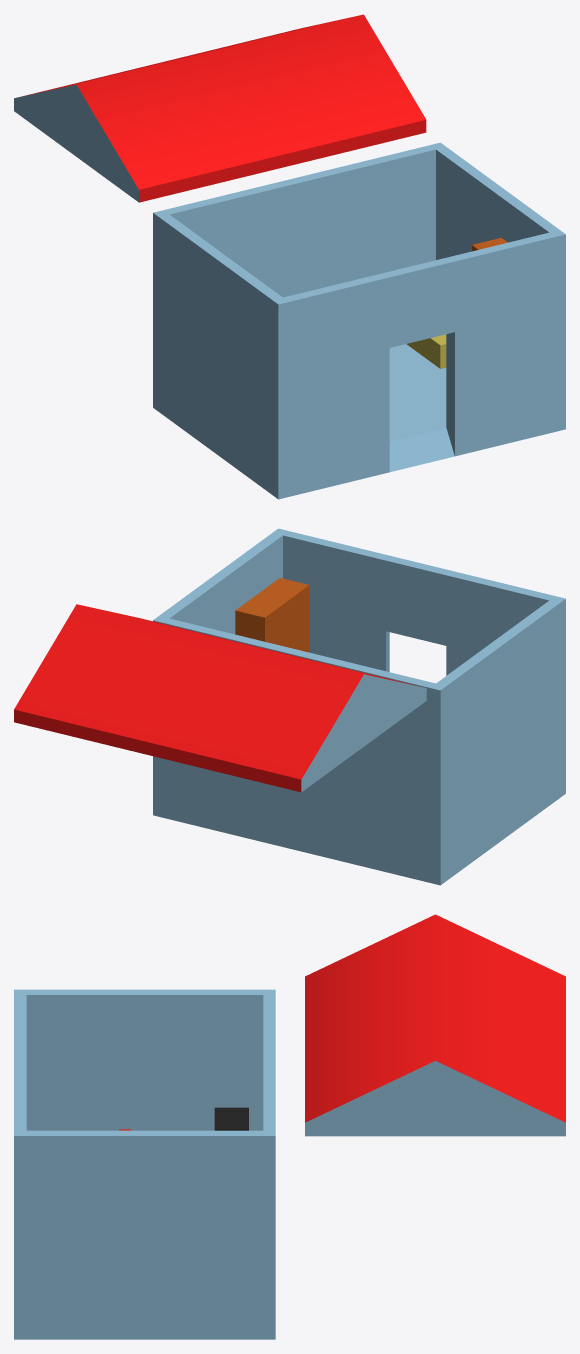
File: BoxHouse1.FBX
3 renders of one model, top to bottom at view 1: azimuth 30°, elevation 25°; view 2: azimuth 150°, elevation 25°; view 3: azimuth 270°, elevation 25°, orthographic. The views are drawn at different scales.
Parts seen in each view (by area): view 1: House01, House01_Roof01; view 2: House01, House01_Roof01; view 3: House01, House01_Roof01.
Part boxes in pixels (x1=…): House01: x1=153, y1=142, x2=565, y2=499; House01_Roof01: x1=14, y1=14, x2=426, y2=202; House01: x1=153, y1=528, x2=565, y2=885; House01_Roof01: x1=14, y1=604, x2=426, y2=792; House01: x1=14, y1=989, x2=275, y2=1339; House01_Roof01: x1=305, y1=914, x2=565, y2=1136.
Bounding box in the file's own units: 54.9 × 48.74 × 87.46.
